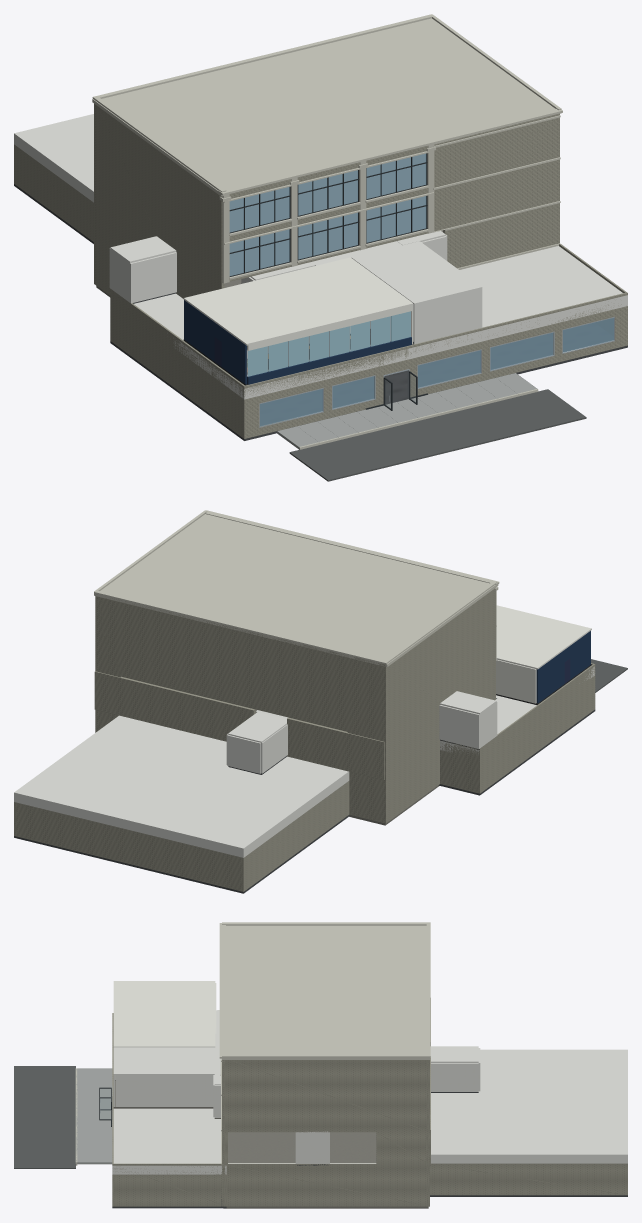
Rendered from pursuit-building.glb.
3 views of the same model, one above another, from view 1: azimuth 30°, elevation 25°; view 2: azimuth 150°, elevation 25°; view 3: azimuth 270°, elevation 25° (orthographic). The views are drawn at different scales.
Parts seen in each view (by area): view 1: Continuous roof over connected building, Estimated right-wing front masonry, Estimated plain building side wall, Front wing added inter-floor support, Classroom | Ceiling slab, Street context, Front wing left ground wall, Front wing right front wall, Sidewalk slab, Front wing left front wall, Single-door room | ceiling, Rear wing inter-floor support (+34 smaller); view 2: Continuous roof over connected building, Rear wing inter-floor support, Extended estimated rear enclosure, Estimated plain building side wall, Rear wing rear ground enclosure, Rear hall east structural closure, Front wing left ground wall, Rear hall west structural closure, Classroom | Ceiling slab, Rear wing west ground enclosure, Front wing left return, Classroom | Interior wall main (+14 smaller); view 3: Continuous roof over connected building, Rear wing inter-floor support, Right exterior above classroom windows, Right exterior below classroom windows, Front wing added inter-floor support, Classroom | Ceiling slab, Rear wing east ground enclosure, Street context, Front wing right ground wall, Sidewalk slab, Continuous second-floor structure 2 0, Single-door room | left wall (+12 smaller).
Boxes of the visible parts, box(x1,y1,x2,y2) form: Continuous roof over connected building: box(92, 18, 561, 196); Estimated right-wing front masonry: box(434, 113, 559, 268); Estimated plain building side wall: box(94, 105, 224, 298); Front wing added inter-floor support: box(173, 246, 627, 399); Classroom | Ceiling slab: box(183, 257, 413, 345); Street context: box(289, 389, 586, 481); Front wing left ground wall: box(110, 289, 245, 438); Front wing right front wall: box(408, 292, 627, 397); Sidewalk slab: box(277, 373, 536, 449); Front wing left front wall: box(243, 352, 383, 438); Single-door room | ceiling: box(351, 241, 482, 304); Rear wing inter-floor support: box(14, 114, 93, 202); Continuous roof over connected building: box(94, 514, 498, 666); Rear wing inter-floor support: box(14, 715, 349, 857); Extended estimated rear enclosure: box(95, 594, 387, 823); Estimated plain building side wall: box(386, 588, 495, 822); Rear wing rear ground enclosure: box(15, 802, 242, 891); Rear hall east structural closure: box(94, 671, 256, 741); Front wing left ground wall: box(478, 664, 594, 793); Rear hall west structural closure: box(287, 717, 384, 779); Classroom | Ceiling slab: box(496, 605, 591, 669); Rear wing west ground enclosure: box(242, 781, 349, 891); Front wing left return: box(440, 740, 479, 793); Classroom | Interior wall main: box(496, 659, 536, 703); Continuous roof over connected building: box(222, 925, 429, 1059); Rear wing inter-floor support: box(431, 1049, 627, 1163); Right exterior above classroom windows: box(222, 1060, 427, 1132); Right exterior below classroom windows: box(222, 1163, 427, 1206); Front wing added inter-floor support: box(112, 1108, 226, 1174); Classroom | Ceiling slab: box(113, 981, 215, 1047); Rear wing east ground enclosure: box(430, 1163, 627, 1195); Street context: box(14, 1066, 75, 1168); Front wing right ground wall: box(112, 1163, 226, 1206); Sidewalk slab: box(76, 1068, 112, 1164); Continuous second-floor structure 2 0: box(228, 1132, 370, 1162); Single-door room | left wall: box(115, 1075, 213, 1106).
Bounding box in the file's own units: 38.75 × 18.38 × 66.25.
Materials: 84 (5 with a texture image).
